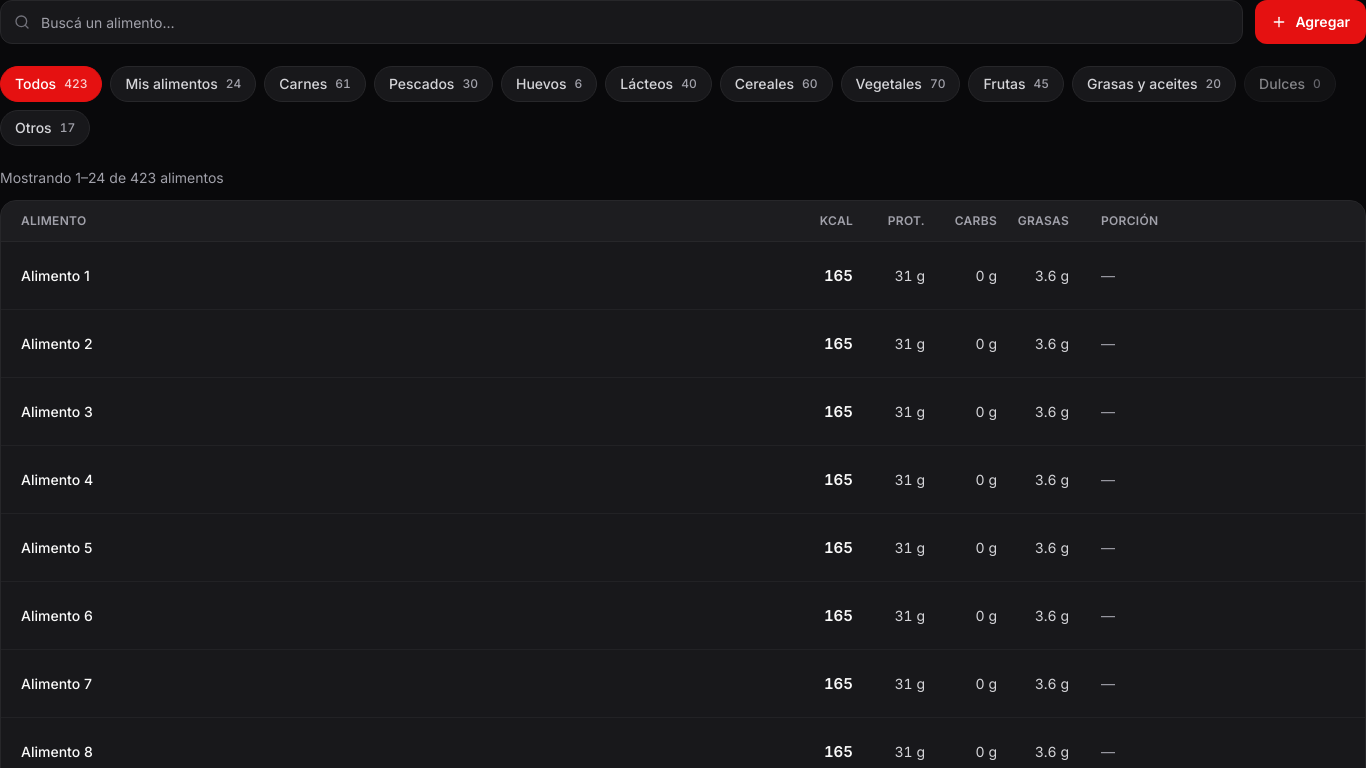
Test: create and edit › offers Sin categoría plus every category
Click the button "Agregar".
click(1311, 22)  # box [1255,0,1365,44]
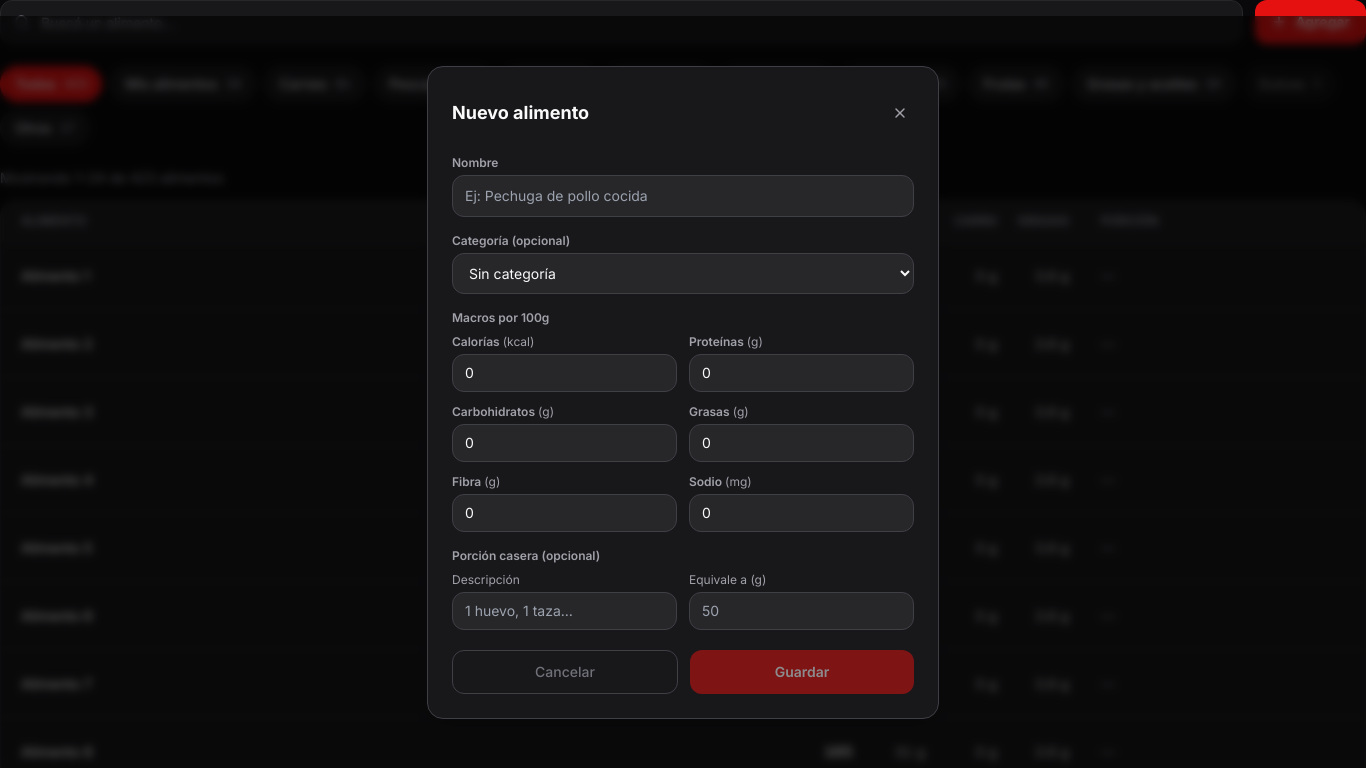
Expected: the dropdown labelled "Categoría (opcional)" shows "Sin categoría", [452,252,914,294]
